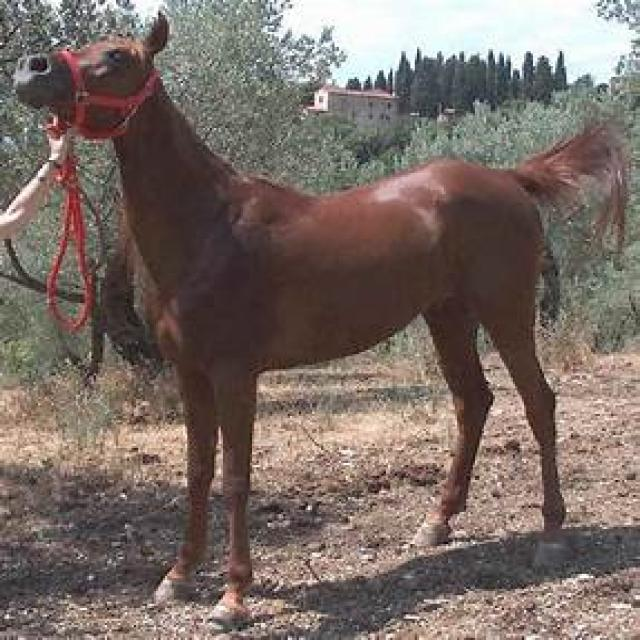animal: (11, 9, 631, 632)
